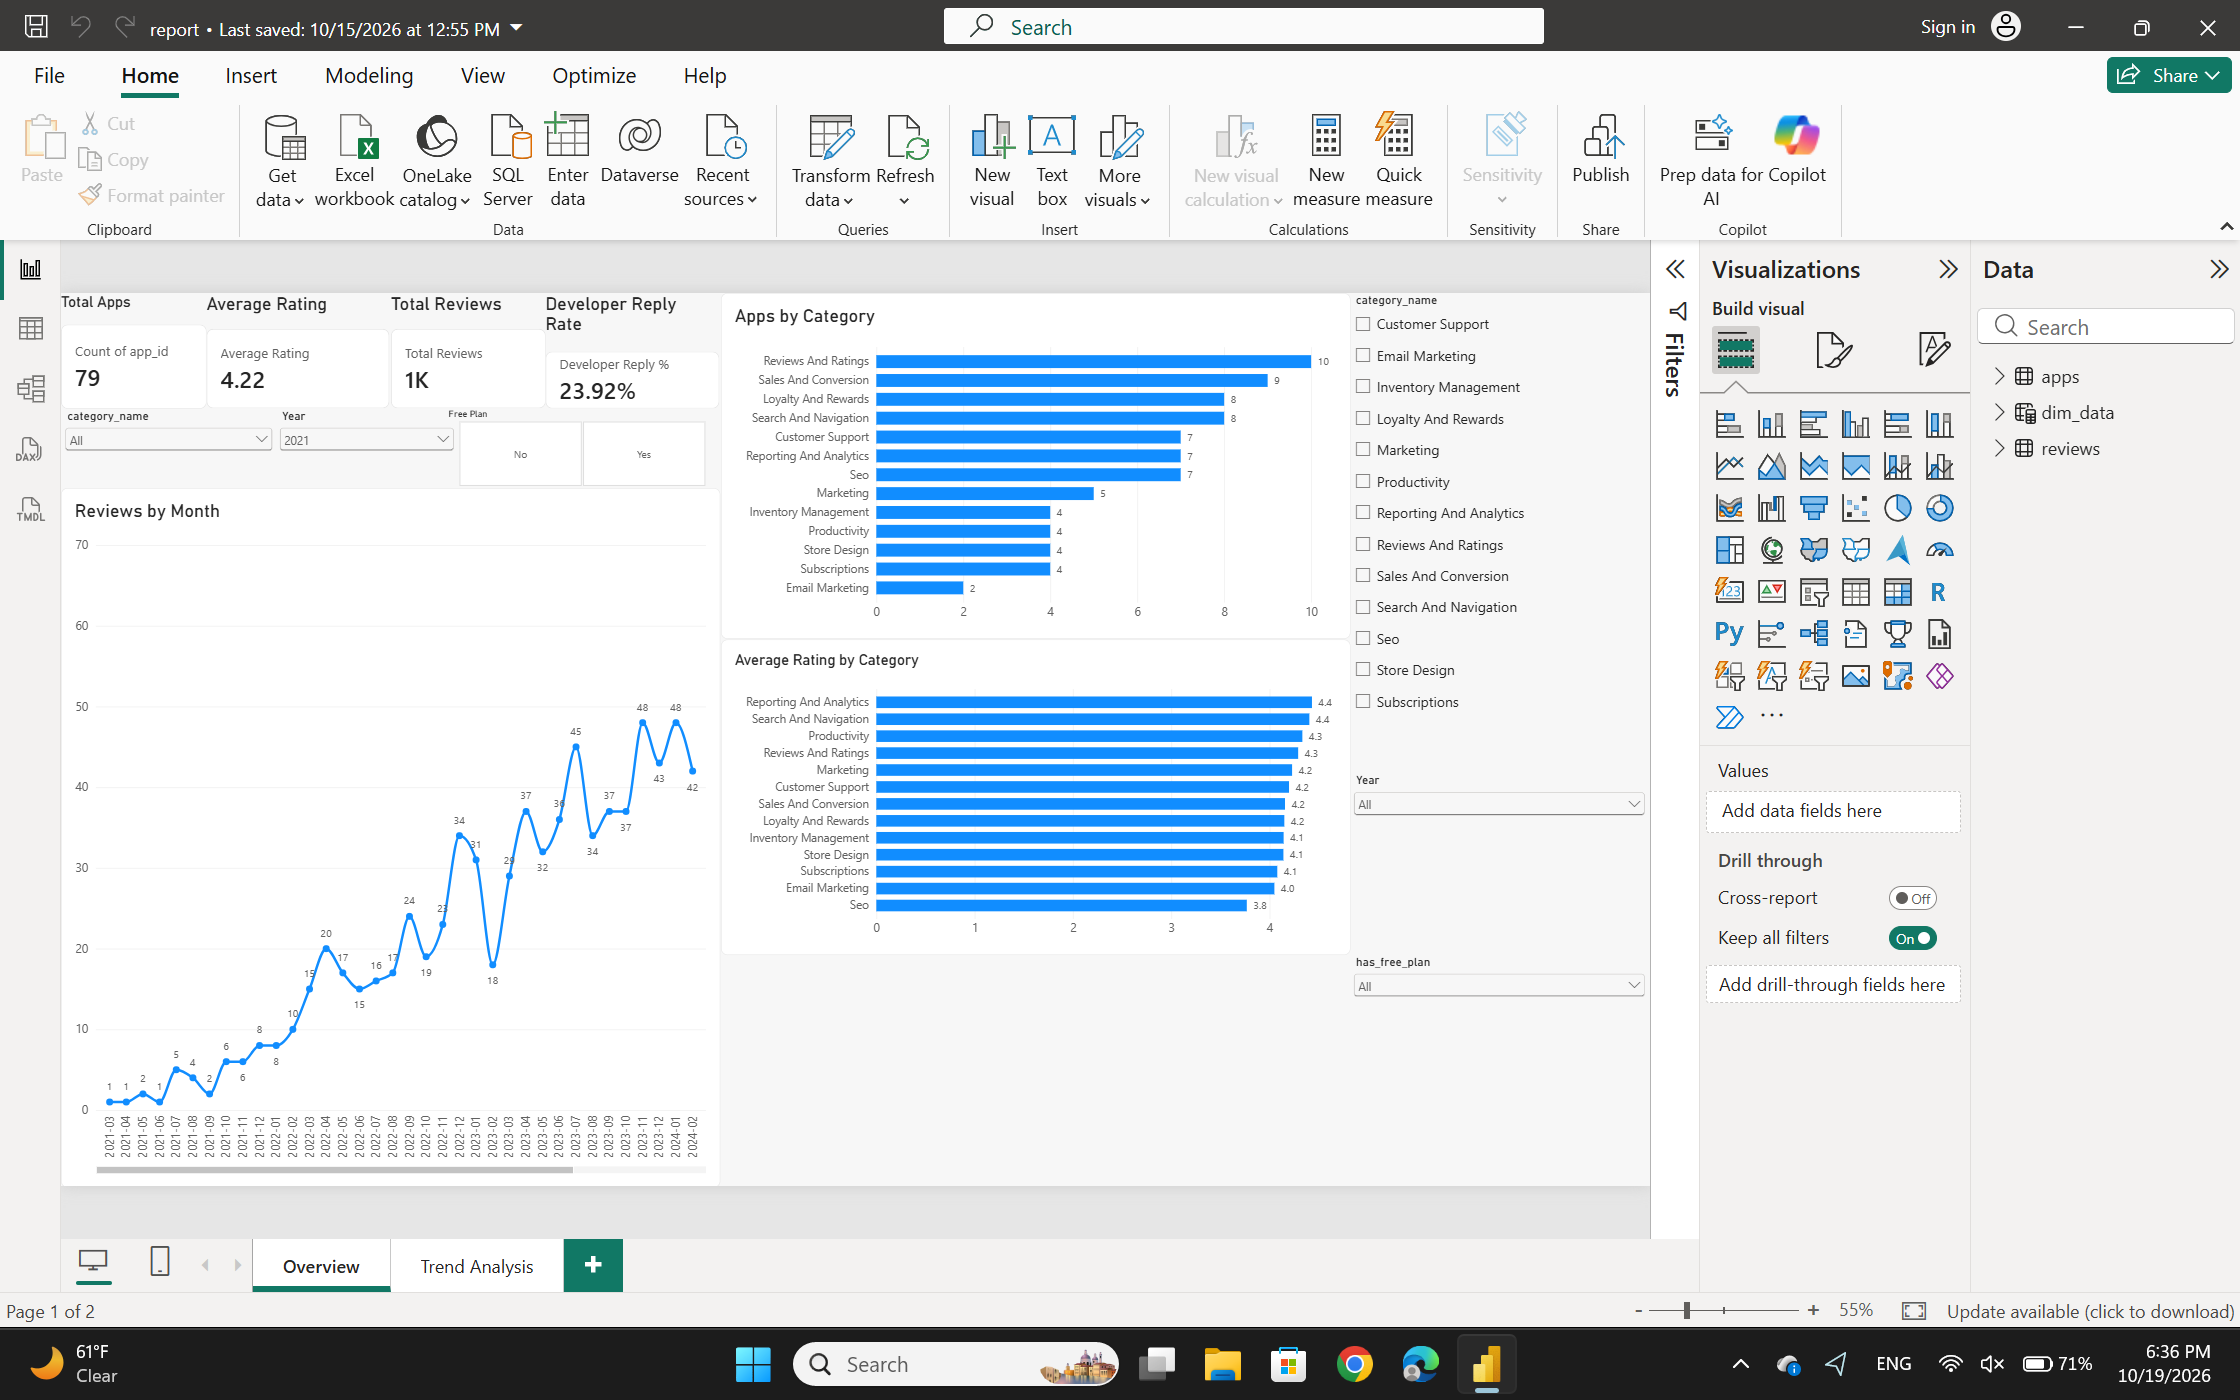

This screenshot's page, from the dashboard's own definition file:
{"tool":"powerbi","page":{"name":"Overview","canvas":[1920,1080],"ordinal":0},"visuals":[{"type":"cardVisual","title":"Total Apps","fields":{"Data":["CountNonNull(apps.app_id)"]},"box":[0,0,176.6,140],"z":0},{"type":"cardVisual","title":"Total Reviews","fields":{"Data":["apps.Total Reviews"]},"box":[398.5,0,187.4,140],"z":1000},{"type":"cardVisual","title":"Average Rating","fields":{"Data":["apps.Average Rating"]},"box":[176.6,0,221.9,140],"z":2000},{"type":"clusteredBarChart","title":" Apps by Category","fields":{"Category":["apps.category_name"],"Y":["apps.Total Apps"]},"box":[797,0,760.4,417.9],"z":3000},{"type":"cardVisual","title":"Developer Reply Rate","fields":{"Data":["apps.Developer Reply %"]},"box":[585.9,0,210.9,140.6],"z":4000},{"type":"slicer","fields":{"Values":["apps.category_name"]},"box":[0,140,260,95],"z":5000},{"type":"slicer","fields":{"Values":["apps.Year"]},"box":[260,140,220,95],"z":6000},{"type":"slicer","fields":{"Values":["apps.Free Plan"]},"box":[460,140,336.7,95],"z":7000},{"type":"lineChart","title":" Reviews by Month","fields":{"Category":["dim_data.Year Month"],"Y":["apps.Total Reviews"]},"box":[0,235,796.7,845],"z":7001},{"type":"clusteredBarChart","title":"Average Rating by Category","fields":{"Category":["apps.category_name"],"Y":["apps.Average Rating"]},"box":[797,417.9,760.4,381.3],"z":7002},{"type":"slicer","fields":{"Values":["apps.category_name"]},"box":[1557.4,0,364,637.6],"z":7003},{"type":"slicer","fields":{"Values":["dim_data.Year"]},"box":[1557.4,579.4,361.9,219.7],"z":7004},{"type":"slicer","fields":{"Values":["apps.has_free_plan"]},"box":[1557.4,799.2,361.9,280],"z":7005}]}

Visuals, with their boxes on the page's 1920x1080 design canvas (x1, y1, x2, y2). These are canvas units, not pixel positions in the 2240x1400 screenshot, which may show the page scaled, cropped or inside an application window:
"Total Apps" cardVisual: pyautogui.locateOnScreen(0, 0, 177, 140)
"Total Reviews" cardVisual: pyautogui.locateOnScreen(398, 0, 586, 140)
"Average Rating" cardVisual: pyautogui.locateOnScreen(177, 0, 398, 140)
" Apps by Category" clusteredBarChart: pyautogui.locateOnScreen(797, 0, 1557, 418)
"Developer Reply Rate" cardVisual: pyautogui.locateOnScreen(586, 0, 797, 141)
slicer - apps.category_name: pyautogui.locateOnScreen(0, 140, 260, 235)
slicer - apps.Year: pyautogui.locateOnScreen(260, 140, 480, 235)
slicer - apps.Free Plan: pyautogui.locateOnScreen(460, 140, 797, 235)
" Reviews by Month" lineChart: pyautogui.locateOnScreen(0, 235, 797, 1080)
"Average Rating by Category" clusteredBarChart: pyautogui.locateOnScreen(797, 418, 1557, 799)
slicer - apps.category_name: pyautogui.locateOnScreen(1557, 0, 1921, 638)
slicer - dim_data.Year: pyautogui.locateOnScreen(1557, 579, 1919, 799)
slicer - apps.has_free_plan: pyautogui.locateOnScreen(1557, 799, 1919, 1079)
